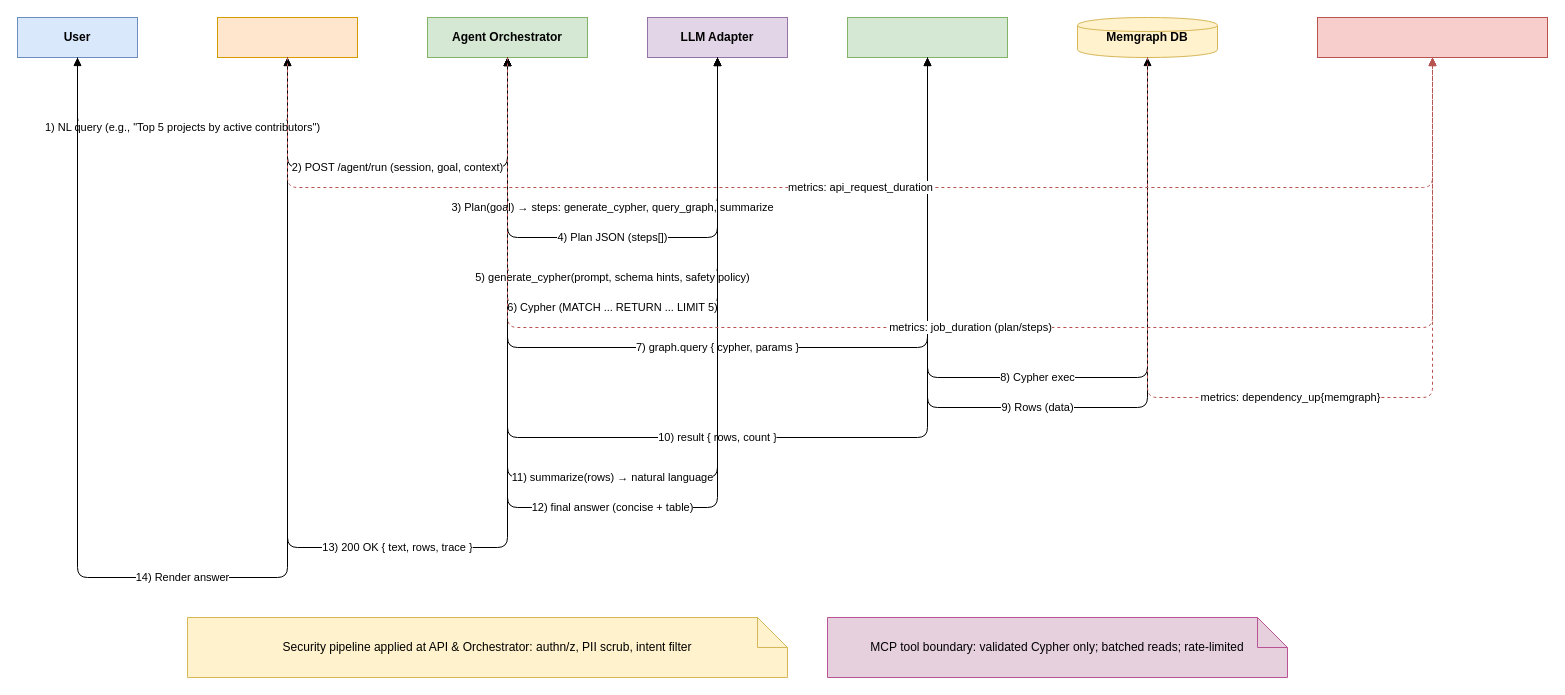
Some shapes in this 1565 by 695 pixel diagram are drawn without their labels. The box of each missing label's shape, as (x1, y1, x2, y2) in pixels:
API (FastAPI): (216, 16, 358, 58)
MCP Tool: Graph: (846, 16, 1008, 58)
Observability (Prometheus/Grafana): (1316, 16, 1548, 58)
